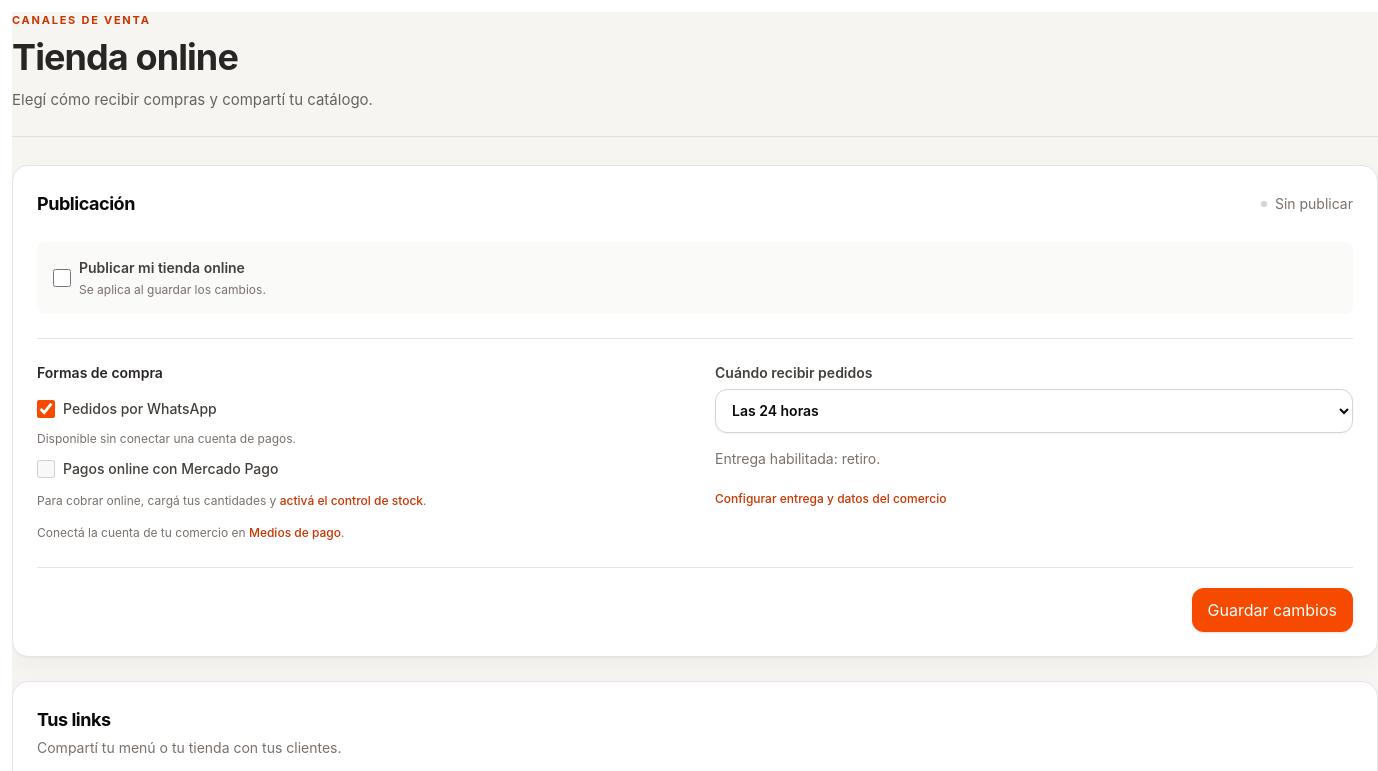
Test case: StoreSettingsPage › blocks publication of an inactive commerce
Click the checkbox labelled "Publicar mi tienda online Se aplica al guardar los cambios." at {"x": 62, "y": 278}, box 53,268 -> 71,286
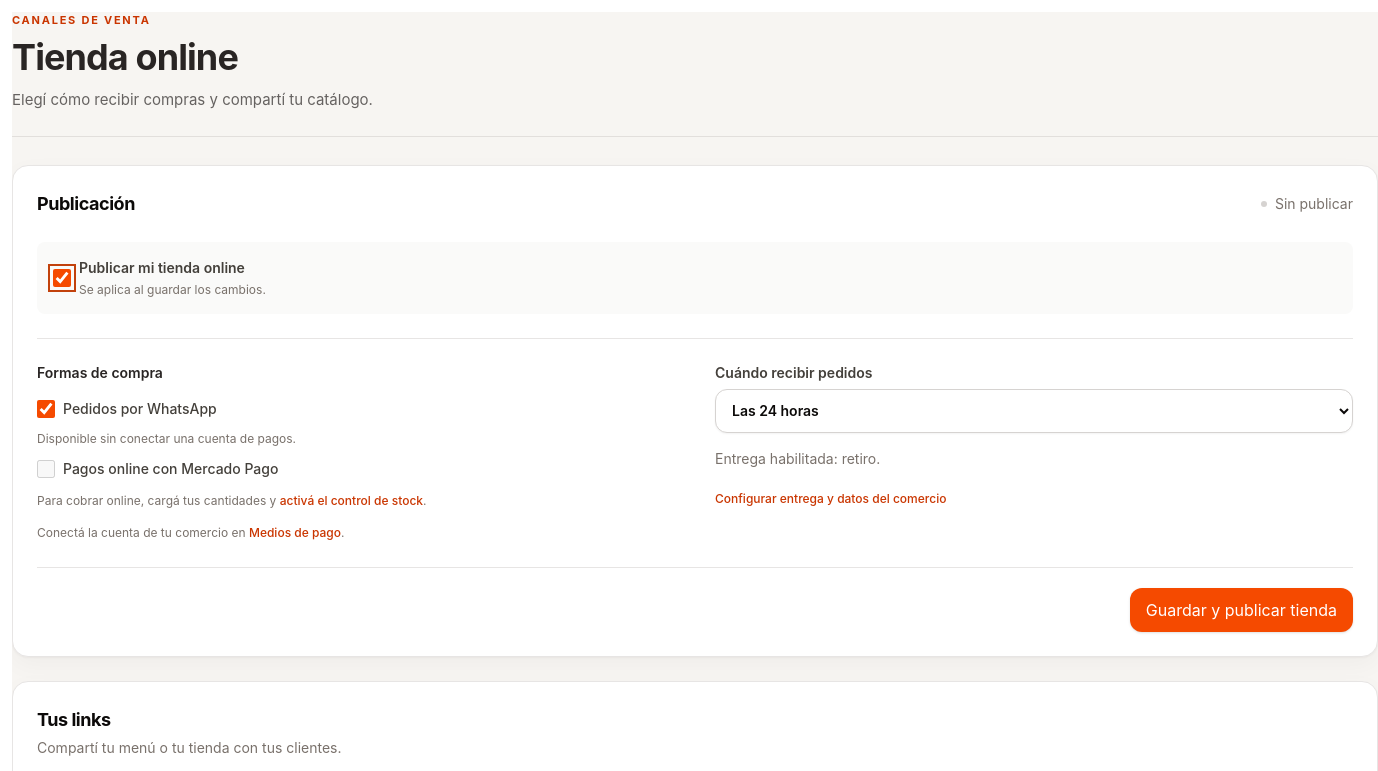
Click the button "Guardar y publicar tienda" at {"x": 1241, "y": 610}, box 1130,588 -> 1353,632
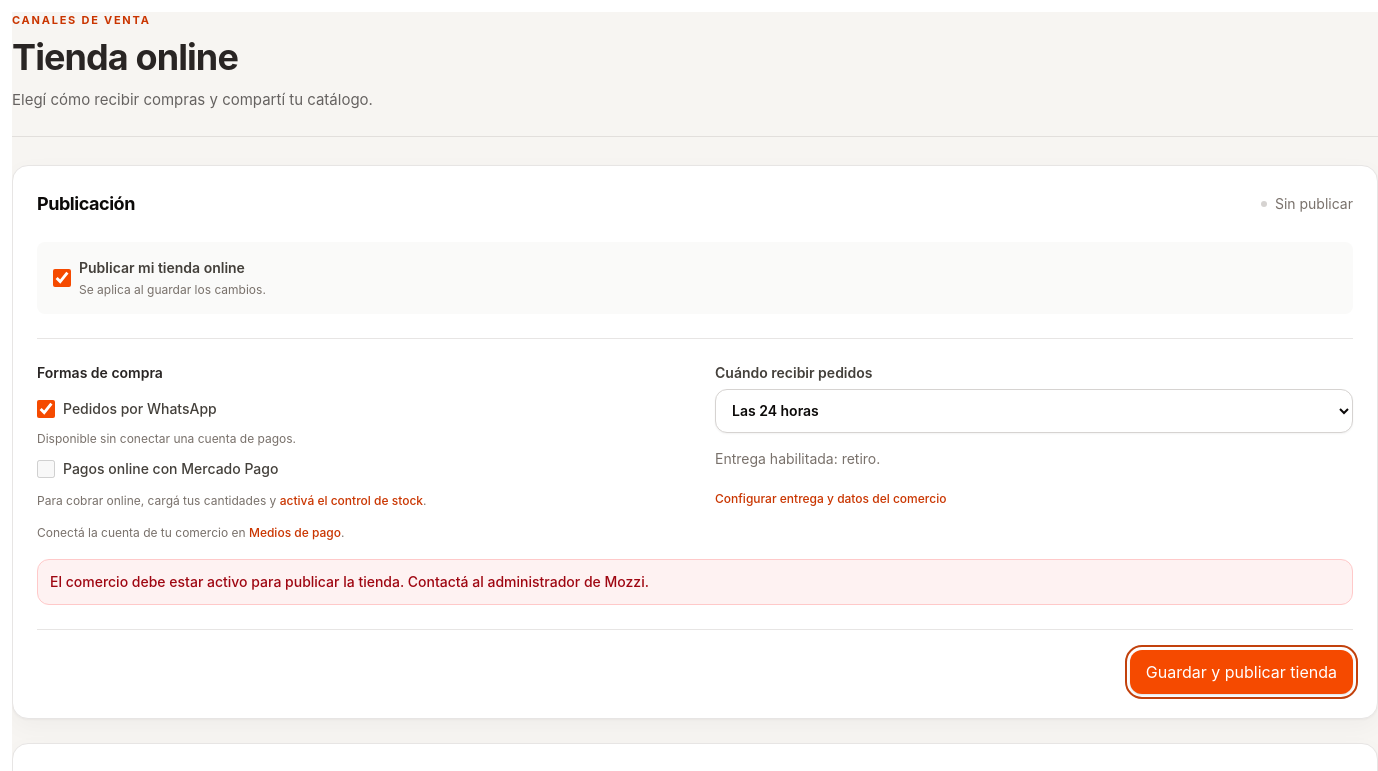
expect the message shows "El comercio debe estar activo": met, box 50,572 -> 649,590
